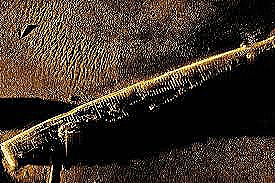ship: (1, 35, 274, 172)
